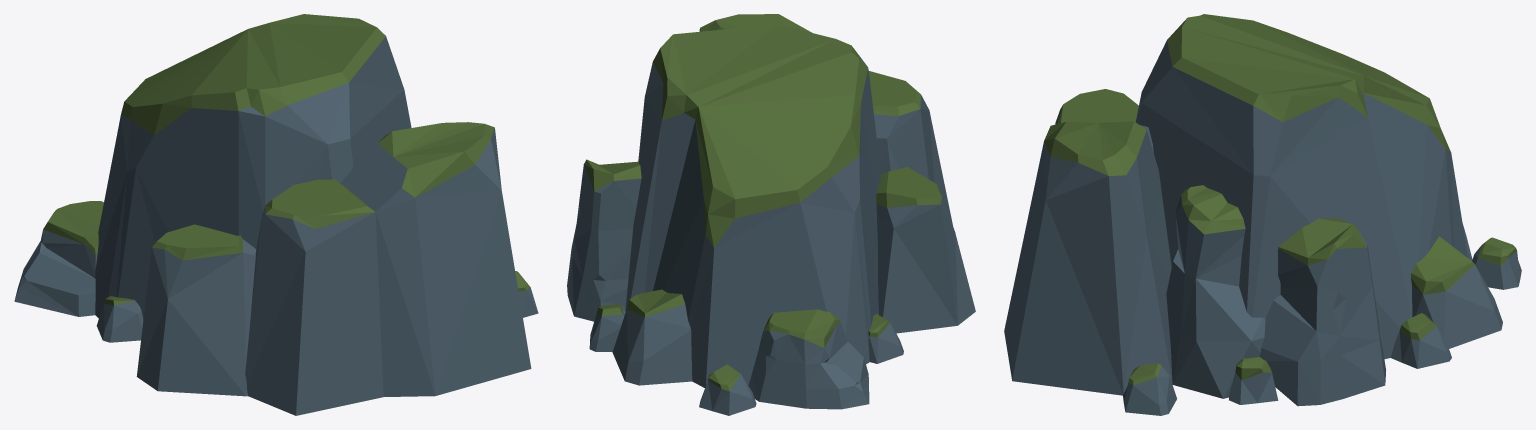
Rendered from Rock_1_2 Asia.fbx.
3 renders of one model, left to right at view 1: azimuth 30°, elevation 25°; view 2: azimuth 150°, elevation 25°; view 3: azimuth 270°, elevation 25°, orthographic. The views are drawn at different scales.
Visible parts, largest first — view 1: Rock_1_2; view 2: Rock_1_2; view 3: Rock_1_2.
Boxes of the visible parts, x1,y1,x2,y2 form: Rock_1_2: (14, 14, 538, 415); Rock_1_2: (567, 14, 975, 415); Rock_1_2: (1004, 14, 1521, 415).
Bounding box in the file's own units: 6.34 × 4.1 × 7.12.
